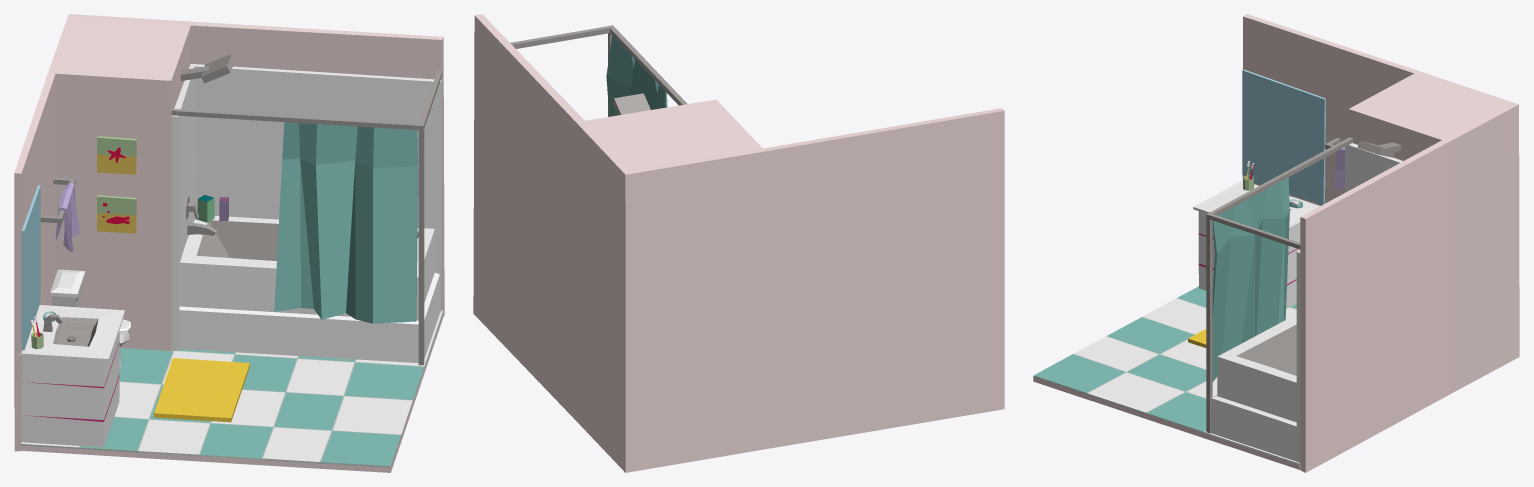
Rendered from Bathroom.gltf.
3 renders of one model, left to right at view 1: azimuth 30°, elevation 25°; view 2: azimuth 150°, elevation 25°; view 3: azimuth 270°, elevation 25°, orthographic. The views are drawn at different scales.
Visible parts, largest first — view 1: Bathroom_Walls, Bathroom_Bath, Bathroom_Floor, Bathroom_Curtain, Bathroom_Washstand, Bathroom_Rug, Bathroom_Mirror, Bathroom_Picture_2, Bathroom_Picture, Bathroom_Toilet, Bathroom_Towel, Bathroom_Shower; view 2: Bathroom_Walls, Bathroom_Curtain, Bathroom_Bath, Bathroom_Shower; view 3: Bathroom_Walls, Bathroom_Floor, Bathroom_Bath, Bathroom_Curtain, Bathroom_Mirror, Bathroom_Washstand.
Boxes of the visible parts, left/top/right/bottom form: Bathroom_Walls: left=14, top=14, right=444, bottom=451; Bathroom_Bath: left=171, top=64, right=442, bottom=365; Bathroom_Floor: left=20, top=310, right=443, bottom=472; Bathroom_Curtain: left=274, top=122, right=417, bottom=323; Bathroom_Washstand: left=17, top=305, right=124, bottom=447; Bathroom_Rug: left=154, top=358, right=249, bottom=422; Bathroom_Mirror: left=21, top=185, right=40, bottom=350; Bathroom_Picture_2: left=97, top=136, right=136, bottom=174; Bathroom_Picture: left=97, top=195, right=136, bottom=233; Bathroom_Toilet: left=50, top=269, right=130, bottom=368; Bathroom_Towel: left=55, top=183, right=79, bottom=251; Bathroom_Shower: left=180, top=54, right=234, bottom=83; Bathroom_Walls: left=473, top=14, right=1004, bottom=472; Bathroom_Curtain: left=606, top=35, right=667, bottom=116; Bathroom_Bath: left=510, top=25, right=687, bottom=116; Bathroom_Shower: left=612, top=93, right=650, bottom=115; Bathroom_Walls: left=1243, top=14, right=1519, bottom=472; Bathroom_Floor: left=1033, top=286, right=1300, bottom=469; Bathroom_Bath: left=1206, top=137, right=1402, bottom=464; Bathroom_Curtain: left=1212, top=177, right=1289, bottom=381; Bathroom_Mirror: left=1242, top=69, right=1325, bottom=204; Bathroom_Washstand: left=1193, top=180, right=1320, bottom=309.
Bounding box in the file's own units: 7.02 × 4.04 × 7.02.
Materials: 1 (1 with a texture image).
